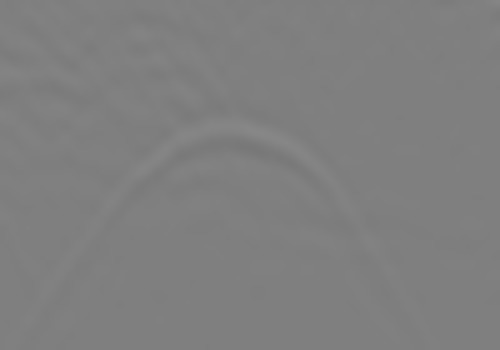hyperbola: (54, 116, 404, 299)
